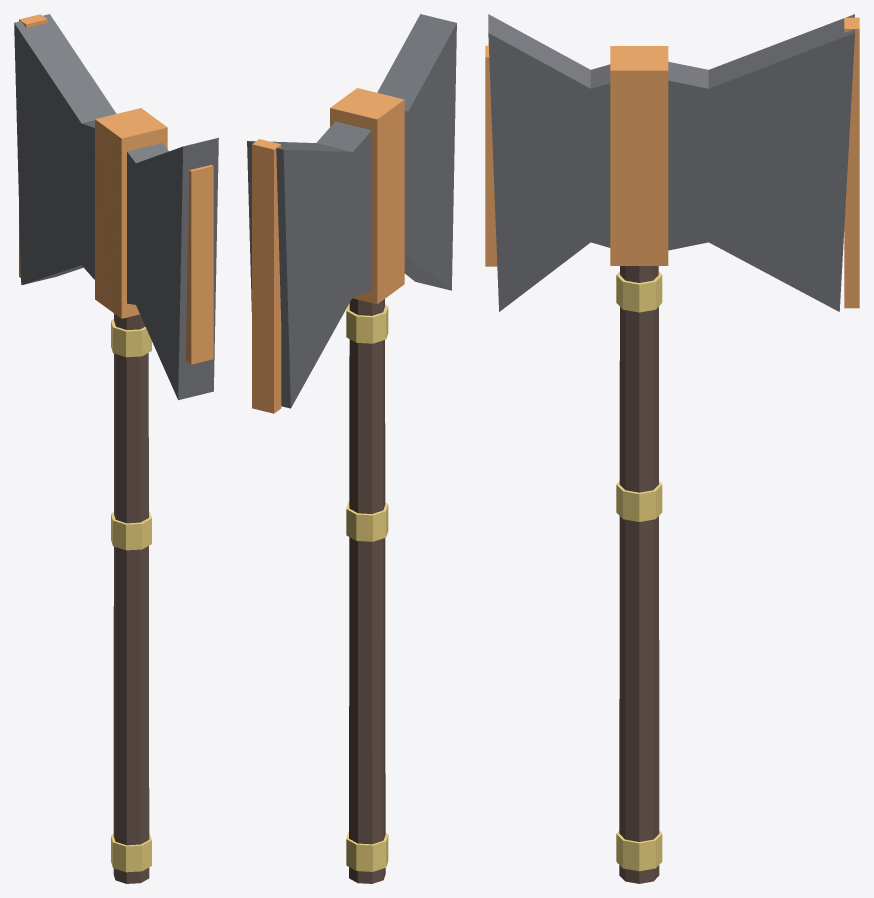
The model's file is Axe_6.fbx.
3 views of the same model, side by side, from view 1: azimuth 30°, elevation 25°; view 2: azimuth 150°, elevation 25°; view 3: azimuth 270°, elevation 25° (orthographic). The views are drawn at different scales.
Visible parts, largest first — view 1: Axe_6_Mesh; view 2: Axe_6_Mesh; view 3: Axe_6_Mesh.
Part boxes in pixels (x1,y1,x2,y2): Axe_6_Mesh: (14, 14, 218, 883); Axe_6_Mesh: (247, 14, 456, 883); Axe_6_Mesh: (485, 14, 859, 883).
Size of the model in its own units: 0.075 by 1.22 by 0.486.
